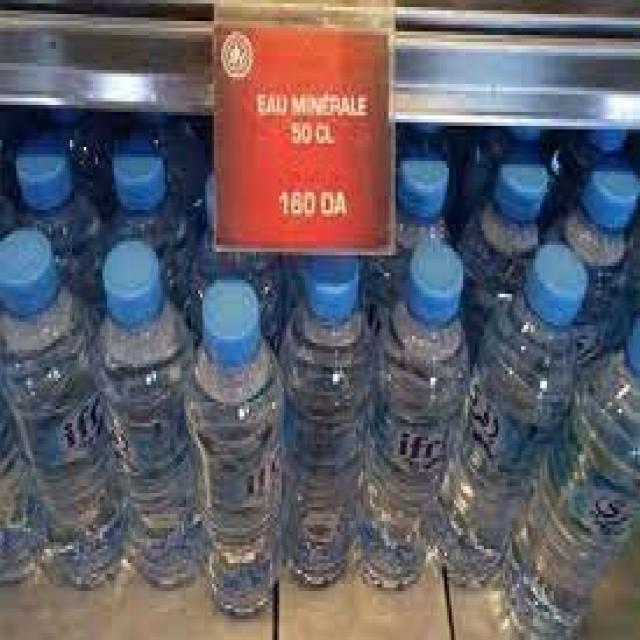Flask: (471, 229, 574, 637), (0, 252, 115, 615), (180, 278, 288, 633), (372, 234, 463, 628), (94, 257, 197, 589), (294, 243, 369, 610), (8, 138, 108, 332), (399, 152, 477, 355), (486, 149, 560, 353), (101, 142, 198, 294)
